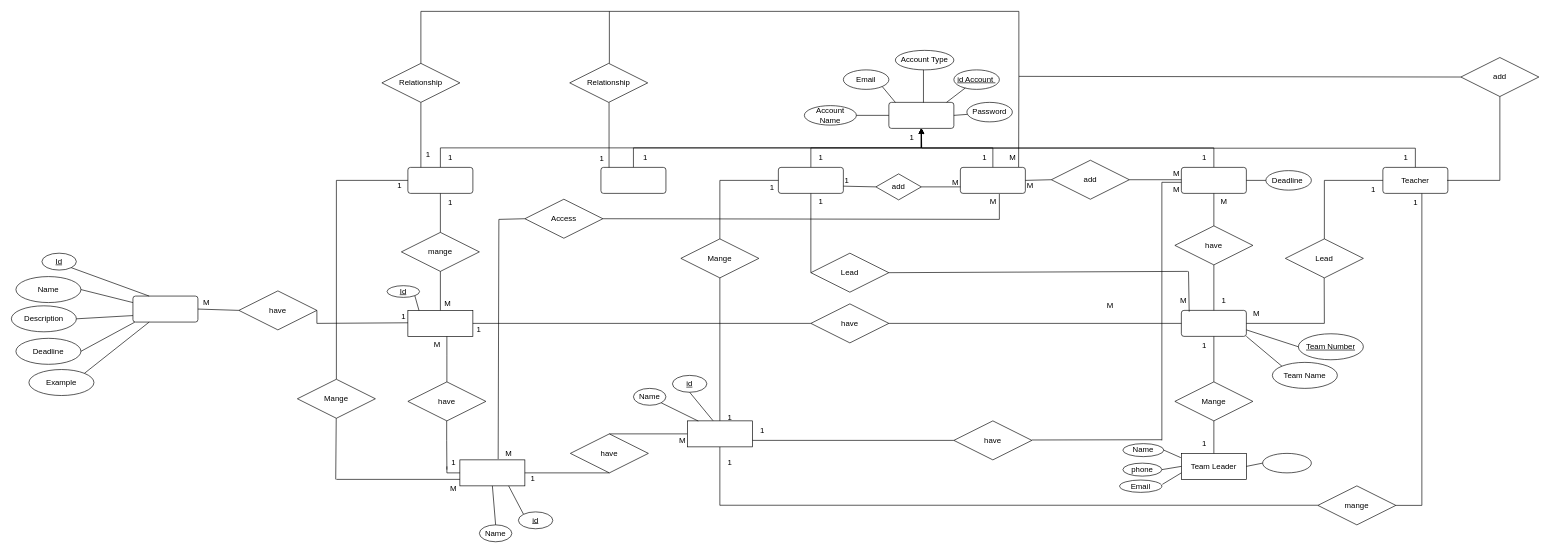
The diagram is 1550 pixels wide and 553 high, and some of its shapes have lost their labels. Here are the shapes that lost their labels. From the top down, the centre of each, then its label:
the point at 921,115: Account
the point at 440,180: cap super vis
the point at 633,180: super Admin
the point at 810,180: Engineering
the point at 992,180: Admin
the point at 1213,180: Students
the point at 165,308: Task
the point at 440,323: Phase
the point at 1213,323: Team
the point at 719,433: Class
the point at 492,472: Grade
the point at 1286,463: Code
